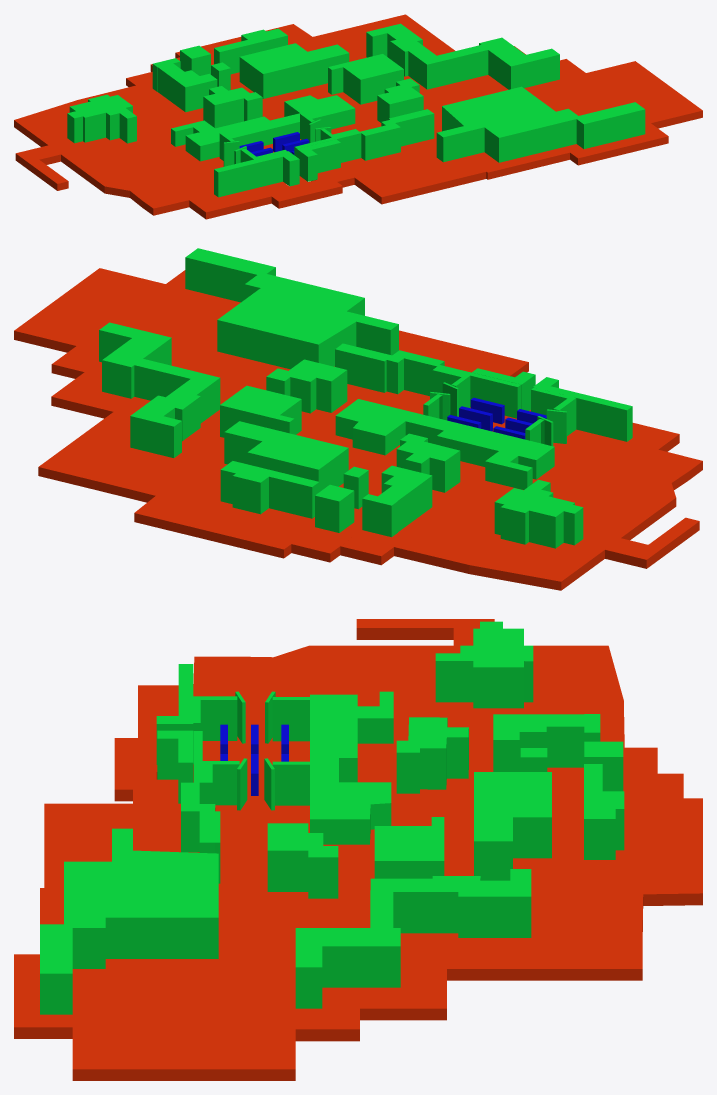
Rendered from Blocagem_mapa_012.fbx.
The picture shows the model from 3 angles, top to bottom: view 1: azimuth 30°, elevation 25°; view 2: azimuth 150°, elevation 25°; view 3: azimuth 270°, elevation 25°; orthographic projection. The views are drawn at different scales.
Visible parts, largest first — view 1: Chão, Cube.019, Parede 6, Parede 1, Parede 5, Cube.006, Cube.001, Cube.023, Cube.003, Parede 3, Parede 4, Cube.004 (+6 smaller); view 2: Chão, Cube.019, Parede 6, Parede 1, Parede 5, Cube.006, Cube.004, Cube.003, Parede 3, Cube.002, Cube.001, Cube.023 (+13 smaller); view 3: Chão, Cube.019, Parede 6, Parede 1, Parede 5, Cube.006, Parede 3, Cube.002, Parede 4, Cube.001, Cube.004, Cube.003 (+11 smaller).
Part boxes in pixels (left/top/right/bottom): Chão: left=14, top=14, right=702, bottom=219; Cube.019: left=436, top=86, right=645, bottom=162; Parede 6: left=366, top=23, right=559, bottom=89; Parede 1: left=171, top=95, right=355, bottom=161; Parede 5: left=239, top=43, right=349, bottom=98; Cube.006: left=67, top=94, right=136, bottom=143; Cube.001: left=328, top=54, right=403, bottom=104; Cube.023: left=214, top=151, right=299, bottom=197; Cube.003: left=360, top=109, right=434, bottom=160; Parede 3: left=152, top=58, right=217, bottom=112; Parede 4: left=203, top=86, right=262, bottom=128; Cube.004: left=214, top=28, right=287, bottom=74; Chão: left=14, top=268, right=702, bottom=590; Cube.019: left=185, top=248, right=398, bottom=369; Parede 6: left=99, top=322, right=220, bottom=457; Parede 1: left=335, top=399, right=554, bottom=489; Parede 5: left=224, top=421, right=348, bottom=491; Cube.006: left=494, top=479, right=583, bottom=548; Cube.004: left=220, top=461, right=319, bottom=518; Cube.003: left=335, top=343, right=444, bottom=396; Parede 3: left=362, top=465, right=432, bottom=537; Cube.002: left=266, top=359, right=347, bottom=413; Cube.001: left=220, top=385, right=301, bottom=437; Cube.023: left=532, top=377, right=632, bottom=441; Chão: left=14, top=619, right=702, bottom=1080; Cube.019: left=40, top=828, right=218, bottom=1014; Parede 6: left=295, top=869, right=531, bottom=1008; Parede 1: left=310, top=691, right=393, bottom=844; Parede 5: left=474, top=772, right=551, bottom=880; Cube.006: left=435, top=621, right=533, bottom=708; Parede 3: left=493, top=714, right=600, bottom=771; Cube.002: left=267, top=823, right=338, bottom=898; Parede 4: left=396, top=717, right=468, bottom=793; Cube.001: left=374, top=817, right=444, bottom=878; Cube.004: left=584, top=764, right=624, bottom=859; Cube.003: left=181, top=782, right=220, bottom=883.
Bounding box in the file's own units: 11378 × 674 × 7361.
